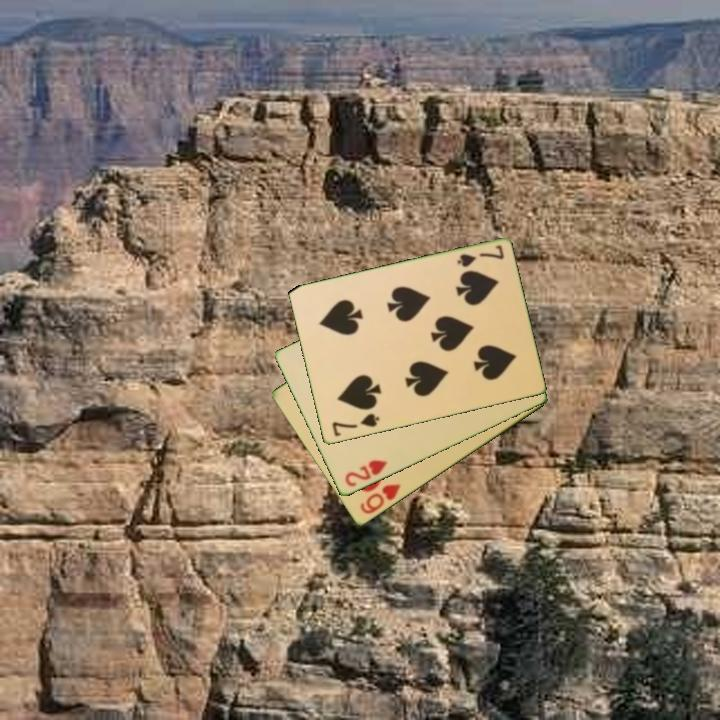2h: (341, 457, 390, 490)
6h: (356, 481, 403, 517)
7s: (328, 410, 382, 440), (453, 242, 507, 271)
